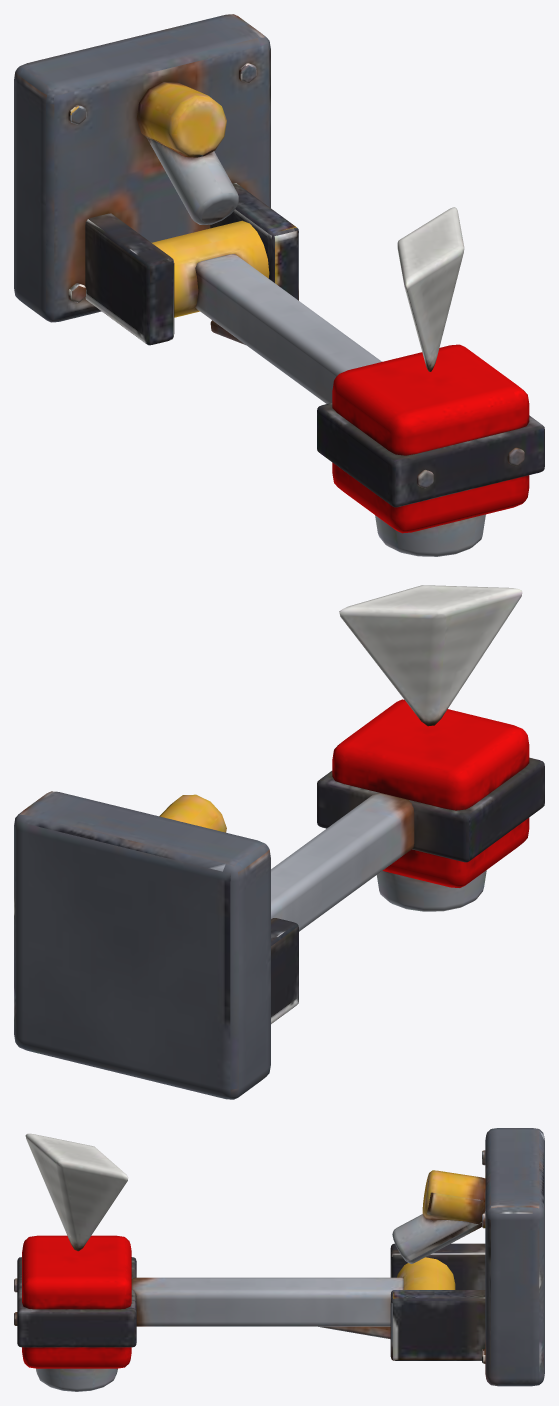
The model's file is hammer.glb.
The picture shows the model from 3 angles, top to bottom: view 1: azimuth 30°, elevation 25°; view 2: azimuth 150°, elevation 25°; view 3: azimuth 270°, elevation 25°; orthographic projection. The views are drawn at different scales.
Parts seen in each view (by area): view 1: body, arm; view 2: body, arm; view 3: arm, body.
Part boxes in pixels (x1,y1,x2,y2): body: [14, 14, 298, 345]; arm: [151, 207, 544, 556]; body: [14, 791, 298, 1099]; arm: [271, 585, 544, 931]; arm: [14, 1133, 455, 1391]; body: [390, 1128, 544, 1386].
Bounding box in the file's own units: 0.4 × 0.495 × 1.07.
1 material, 1 textured.
